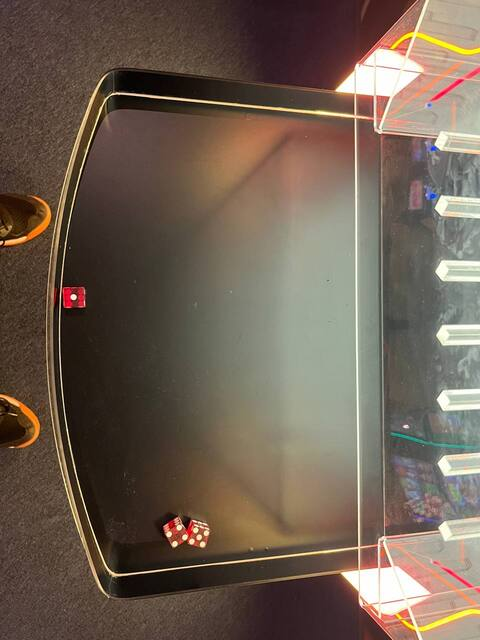five: (185, 523, 213, 551)
four: (161, 521, 191, 551)
one: (58, 285, 91, 314)
